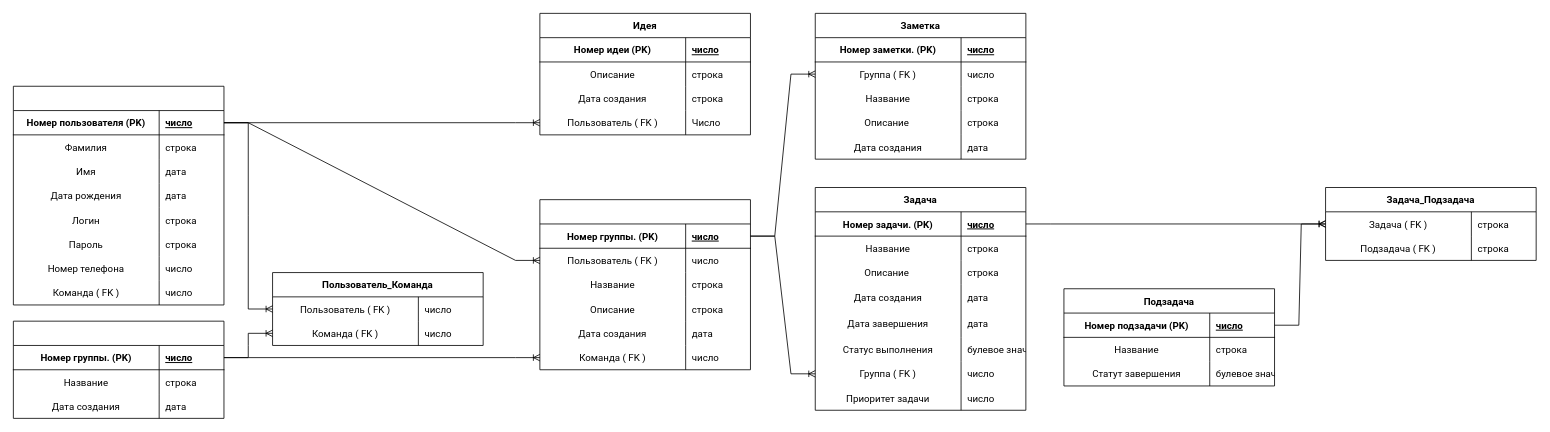
Some shapes in this 1550 by 432 pixel diagram are drawn without their labels. The box of each missing label's shape, as (x1, y1, x2, y2) in pixels:
Группа ( заметок и задач ): (539, 199, 750, 370)
Команда: (13, 320, 224, 418)
Пользователь: (13, 85, 224, 305)
